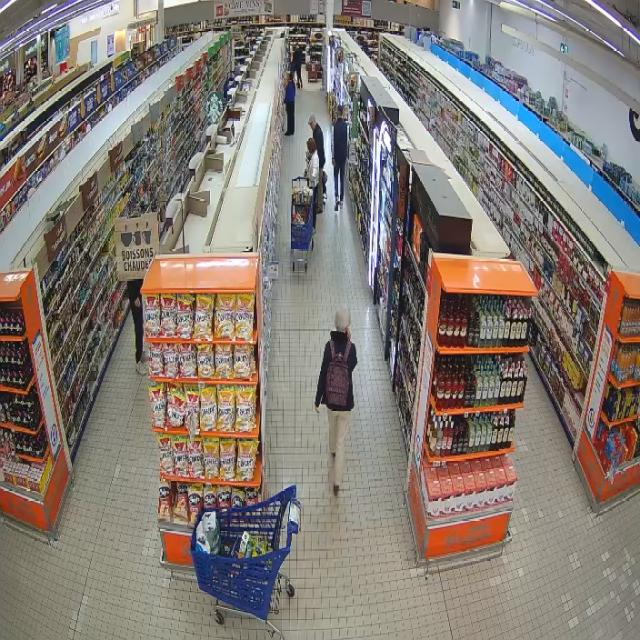bags: (326, 339, 350, 406)
hands: (314, 403, 319, 414), (346, 327, 350, 339), (135, 298, 140, 307), (332, 159, 335, 166)
person: (315, 309, 357, 495), (127, 279, 148, 374), (332, 105, 348, 211), (306, 138, 321, 233), (309, 114, 325, 197)
